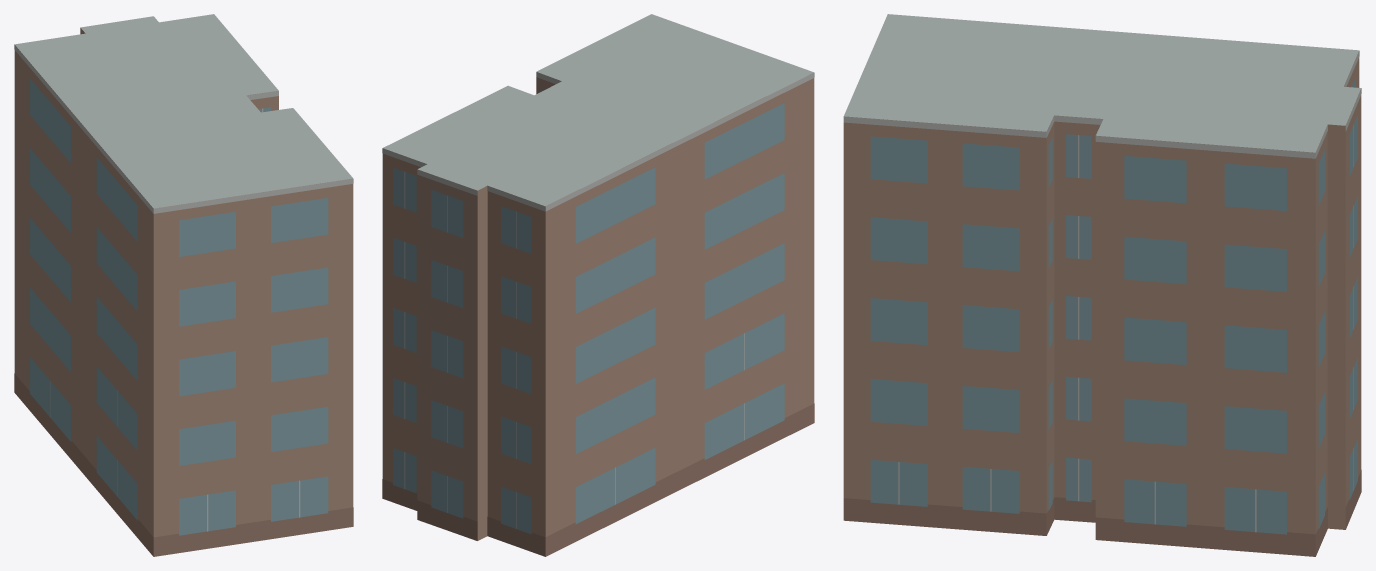
The model's file is survey-upis-32528057.glb.
3 renders of one model, left to right at view 1: azimuth 30°, elevation 25°; view 2: azimuth 150°, elevation 25°; view 3: azimuth 270°, elevation 25°, orthographic. The views are drawn at different scales.
Parts seen in each view (by area): view 1: survey-upis-32528057.tmp; view 2: survey-upis-32528057.tmp; view 3: survey-upis-32528057.tmp.
Boxes of the visible parts, x1=… form: survey-upis-32528057.tmp: x1=14, y1=14, x2=353, y2=556; survey-upis-32528057.tmp: x1=382, y1=14, x2=814, y2=556; survey-upis-32528057.tmp: x1=843, y1=14, x2=1361, y2=556.
Bounding box in the file's own units: 11.89 × 16.15 × 18.76.
